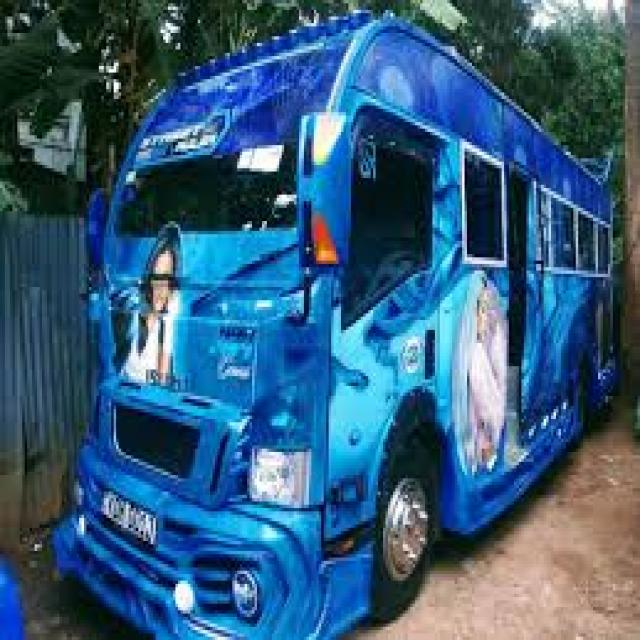bus: (44, 12, 627, 638)
